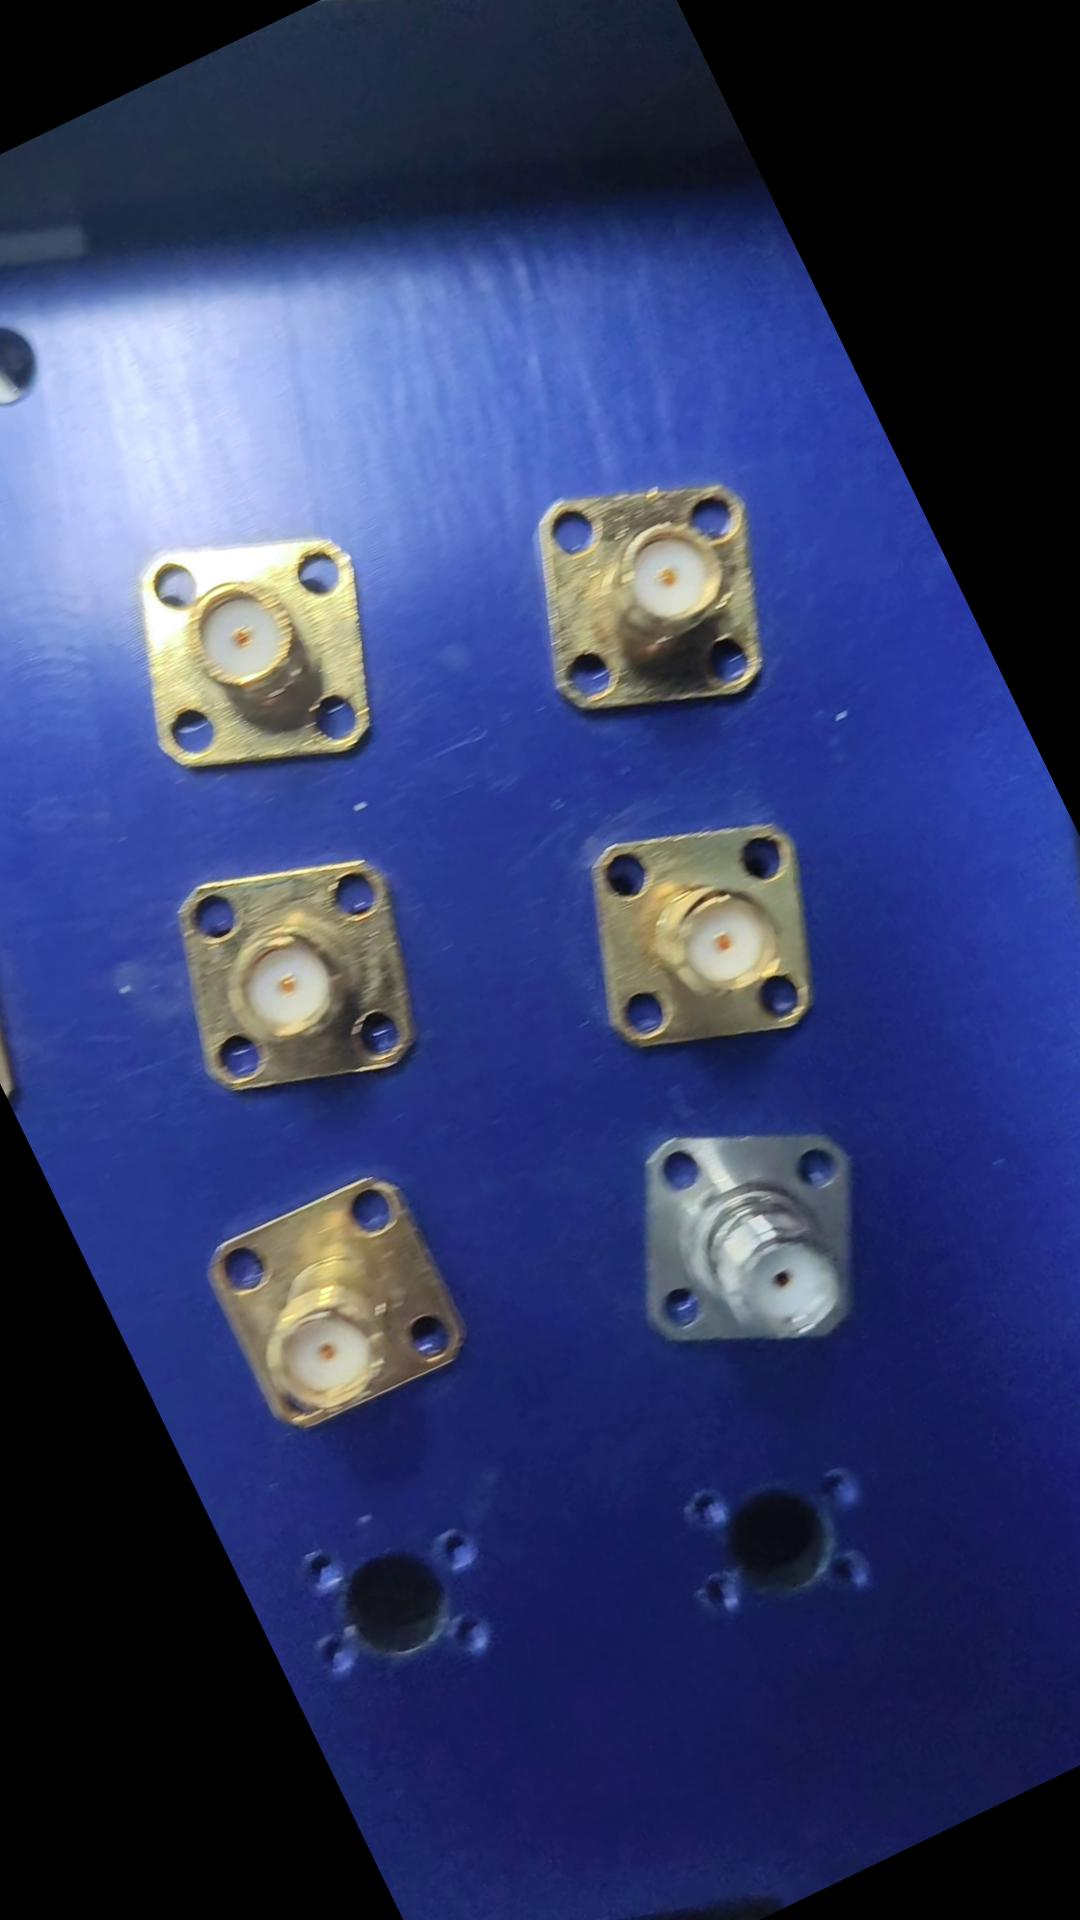SMA: (78, 475, 430, 827), (479, 421, 823, 764), (576, 1073, 914, 1411), (129, 814, 460, 1147), (533, 775, 860, 1102), (185, 1156, 481, 1453)
